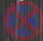No Stopping: (6, 4, 42, 38)
